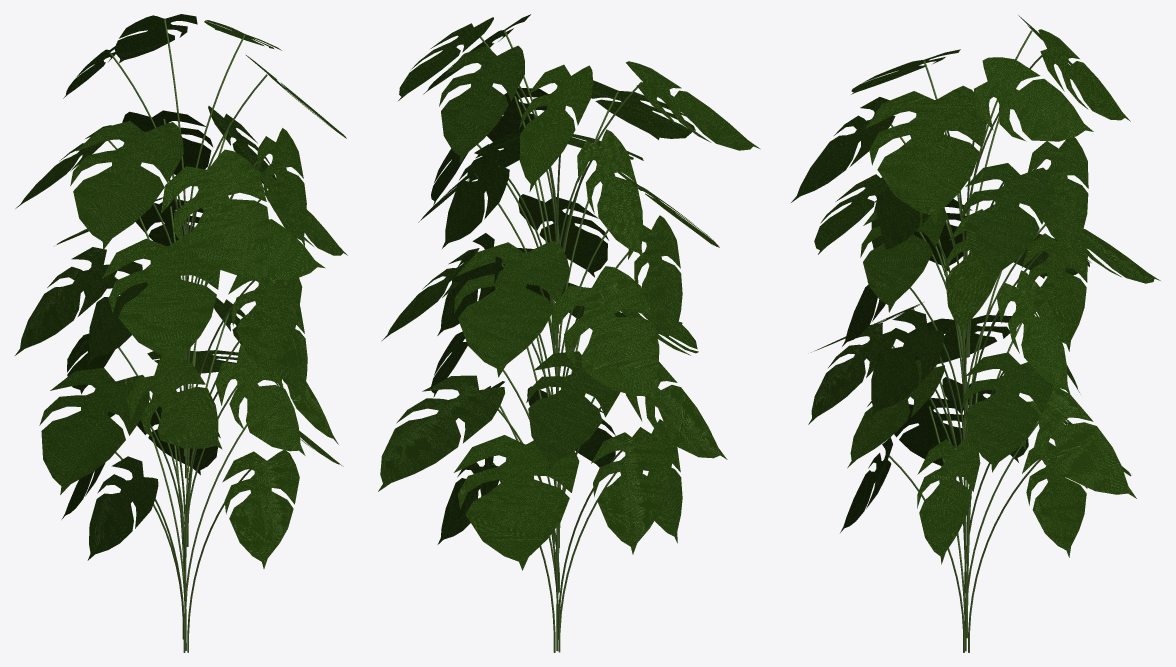
The model's file is Large House Plant1.dae.
The picture shows the model from 3 angles, left to right: view 1: azimuth 30°, elevation 25°; view 2: azimuth 150°, elevation 25°; view 3: azimuth 270°, elevation 25°; orthographic projection. The views are drawn at different scales.
Visible parts, largest first — view 1: Leaf1_1 (×15), Leaf1 (×4), Leaf1_2 (×5), Leaf1_3 (×3), Stem1; view 2: Leaf1_1 (×15), Leaf1 (×5), Leaf1_3 (×3), Leaf1_2 (×4); view 3: Leaf1_1 (×15), Leaf1_2 (×5), Leaf1 (×3), Leaf1_3 (×4).
Part boxes in pixels (x1,y1,x2,y2): Leaf1_1 (×15): (61,106,307,568); Leaf1 (×4): (15,149,269,494); Leaf1_2 (×5): (114,14,347,455); Leaf1_3 (×3): (15,41,338,444); Stem1: (184,424,247,627); Leaf1_1 (×15): (378,61,760,554); Leaf1 (×5): (454,80,727,570); Leaf1_3 (×3): (381,64,643,341); Leaf1_2 (×4): (398,17,698,355); Leaf1_1 (×15): (840,49,1160,557); Leaf1_2 (×5): (808,29,1130,424); Leaf1 (×3): (791,85,1011,363); Leaf1_3 (×4): (847,209,1070,564).
Size of the model in its own units: 17.41 by 18.77 by 34.72.
